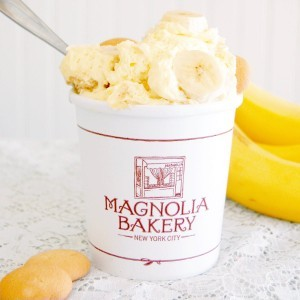banana_brain food: (75, 35, 250, 112), (239, 122, 270, 210)
